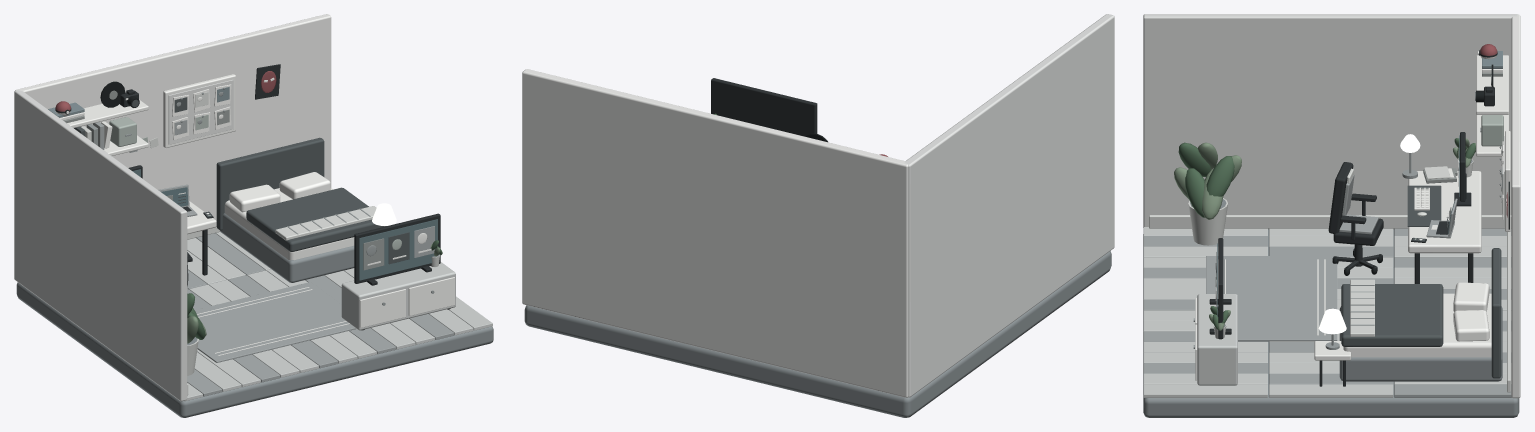
Rendered from andre-archive-room.glb.
3 renders of one model, left to right at view 1: azimuth 30°, elevation 25°; view 2: azimuth 150°, elevation 25°; view 3: azimuth 270°, elevation 25°, orthographic. The views are drawn at different scales.
Visible parts, largest first — view 1: left_wall, back_wall, foundation, rug, tv_interactive, wall_board_interactive, duvet, headboard, bookshelf_interactive, bed_frame, console_door (×2), console (+30 smaller); view 2: back_wall, left_wall, foundation, tv_interactive; view 3: left_wall, rug, foundation, duvet, bed_frame, back_wall, desktop, console, leaf (×5), bookshelf_interactive, left_skirting, mattress (+48 smaller).
Boxes of the visible parts, bbox=[...] form: left_wall: bbox=[14, 90, 187, 401]; back_wall: bbox=[15, 14, 331, 220]; foundation: bbox=[16, 282, 493, 417]; rug: bbox=[194, 282, 356, 362]; tv_interactive: bbox=[354, 213, 440, 285]; wall_board_interactive: bbox=[163, 74, 235, 147]; duvet: bbox=[246, 187, 386, 251]; headboard: bbox=[216, 137, 324, 230]; bookshelf_interactive: bbox=[48, 81, 148, 155]; bed_frame: bbox=[220, 213, 354, 282]; console_door (×2): bbox=[359, 277, 454, 327]; console: bbox=[341, 262, 455, 330]; back_wall: bbox=[522, 69, 908, 397]; left_wall: bbox=[904, 14, 1114, 397]; foundation: bbox=[524, 251, 1111, 417]; tv_interactive: bbox=[711, 78, 817, 136]; left_wall: bbox=[1143, 14, 1518, 229]; rug: bbox=[1206, 256, 1337, 341]; foundation: bbox=[1143, 229, 1519, 417]; duvet: bbox=[1341, 284, 1443, 346]; bed_frame: bbox=[1339, 306, 1502, 381]; back_wall: bbox=[1511, 14, 1520, 398]; desktop: bbox=[1408, 171, 1481, 253]; console: bbox=[1197, 294, 1237, 385]; leaf (×5): bbox=[1178, 142, 1234, 219]; bookshelf_interactive: bbox=[1476, 51, 1508, 156]; left_skirting: bbox=[1149, 215, 1511, 228]; mattress: bbox=[1343, 293, 1491, 357].
Bounding box in the file's own units: 5.22 × 3.3 × 4.82.
